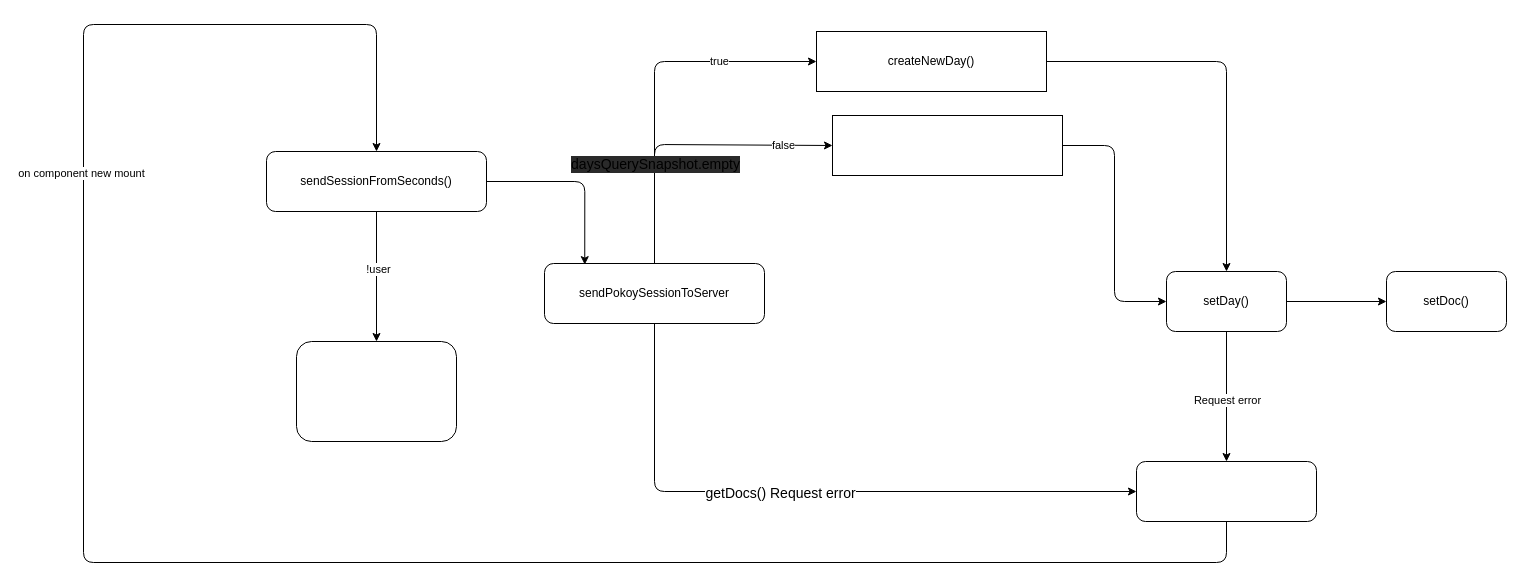
The diagram is 1524 pixels wide and 588 high, and some of its shapes have lost their labels. Each missing label, with the centre of its shape:
"localStorage.setItem()" belongs at pixel 1226 491.
"not defined. Request not sended." belongs at pixel 376 391.
"updateExistingDay()" belongs at pixel 947 145.
